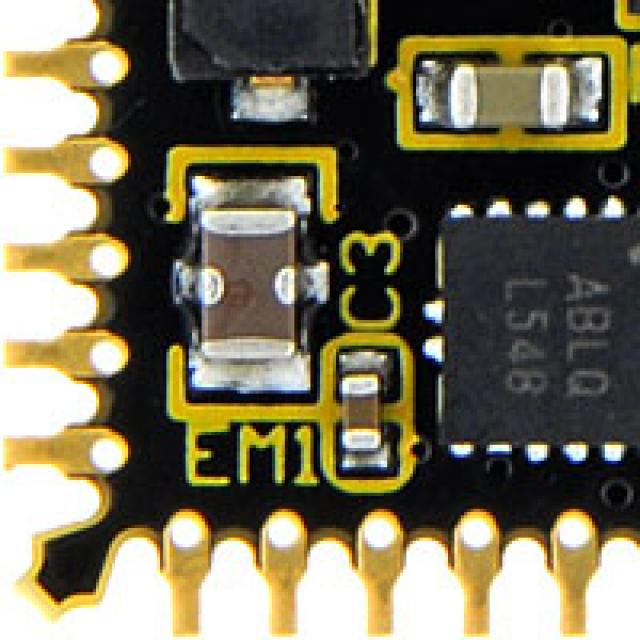IC: (435, 198, 640, 454), (624, 0, 640, 22)
capacitor: (400, 45, 621, 141), (330, 336, 400, 493)
component text: (490, 262, 614, 416)
connector: (141, 499, 640, 637), (0, 0, 131, 493)
switch: (157, 0, 368, 61)
unknown: (170, 154, 323, 419)
